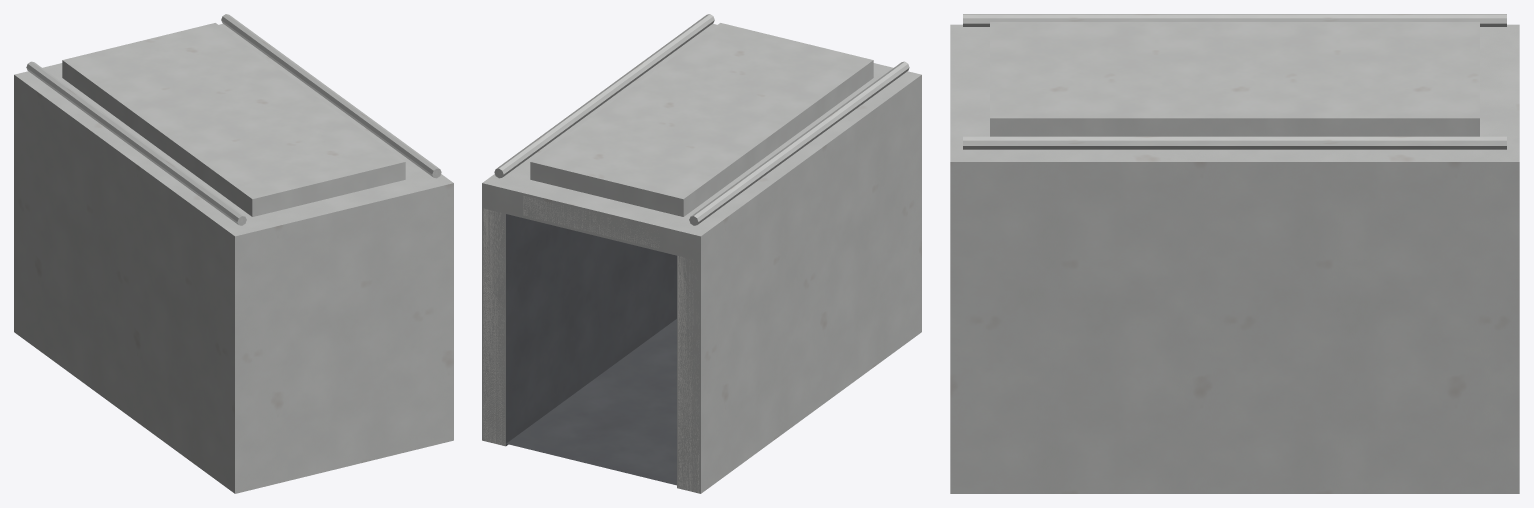
Rendered from joint.gltf.
3 views of the same model, side by side, from view 1: azimuth 30°, elevation 25°; view 2: azimuth 150°, elevation 25°; view 3: azimuth 270°, elevation 25° (orthographic). The views are drawn at different scales.
Parts seen in each view (by area): view 1: jx_joint; view 2: jx_joint; view 3: jx_joint.
Part boxes in pixels (<box>): jx_joint: <box>14,14,453,493</box>; jx_joint: <box>482,14,921,493</box>; jx_joint: <box>950,14,1519,493</box>.
Bounding box in the file's own units: 2.56 × 3.08 × 4.48.
3 materials, 3 textured.
